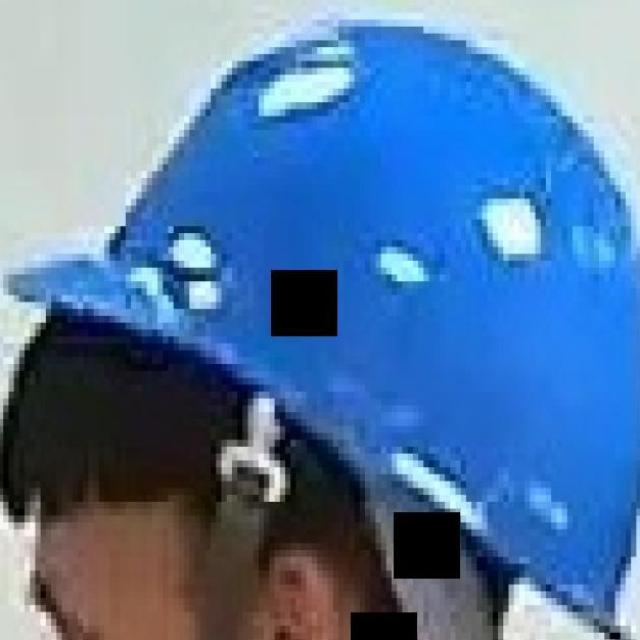helmet: (11, 12, 634, 637)
